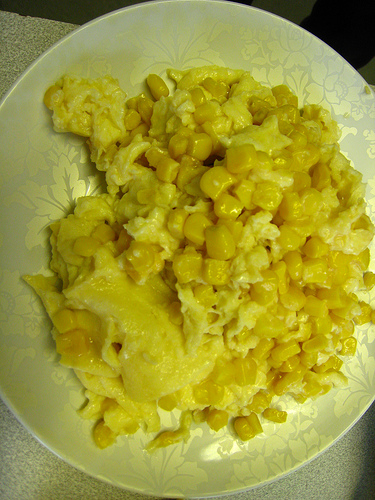corn: (28, 75, 371, 447)
